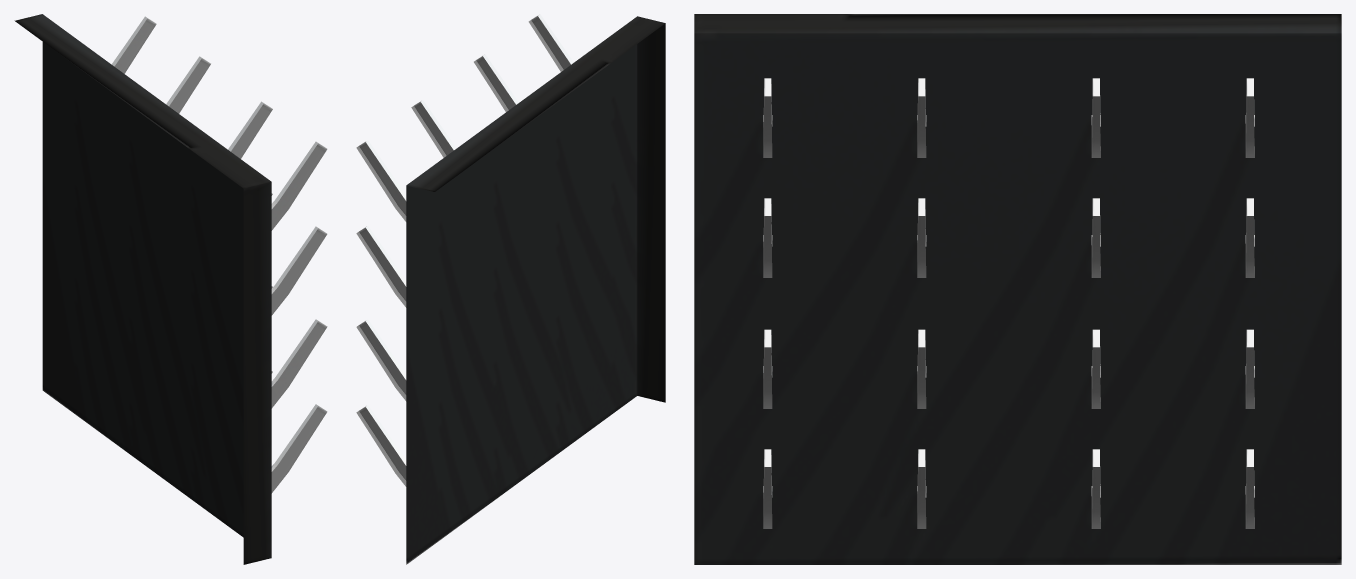
Rendered from Tx_props_rackwall_9.fbx.
3 views of the same model, side by side, from view 1: azimuth 30°, elevation 25°; view 2: azimuth 150°, elevation 25°; view 3: azimuth 270°, elevation 25° (orthographic). The views are drawn at different scales.
Parts seen in each view (by area): view 1: Tx_props_rackwall_7; view 2: Tx_props_rackwall_7; view 3: Tx_props_rackwall_7.
Boxes of the visible parts, x1=… form: Tx_props_rackwall_7: x1=14, y1=14, x2=327, y2=564; Tx_props_rackwall_7: x1=356, y1=14, x2=665, y2=564; Tx_props_rackwall_7: x1=694, y1=14, x2=1341, y2=564.
Size of the model in its own units: 1.1 by 3.67 by 4.02.
